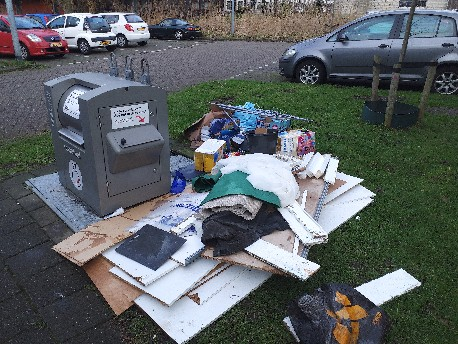Container: (51, 67, 169, 199)
Papier: (69, 226, 167, 315)
Rest: (167, 156, 333, 334), (177, 102, 381, 209), (202, 151, 308, 274), (284, 294, 390, 339), (209, 149, 287, 208)
Voertuig: (283, 15, 457, 80), (57, 12, 115, 50), (97, 11, 149, 47), (149, 13, 196, 45), (17, 18, 56, 55)
